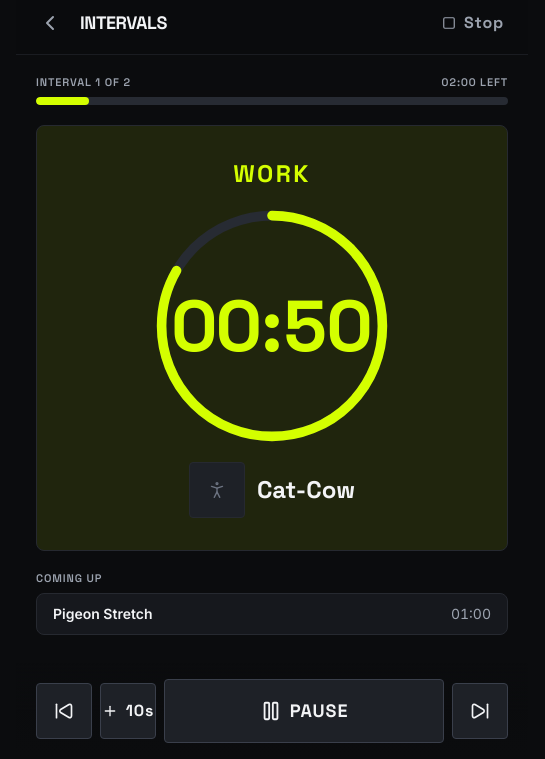
Test: interval Back button › undoes an accidental skip: the set is reopened and the step runs again
This screenshot has width=545, height=759.
Click the button named "Skip this set" at (480, 711), box [452,683,508,739]
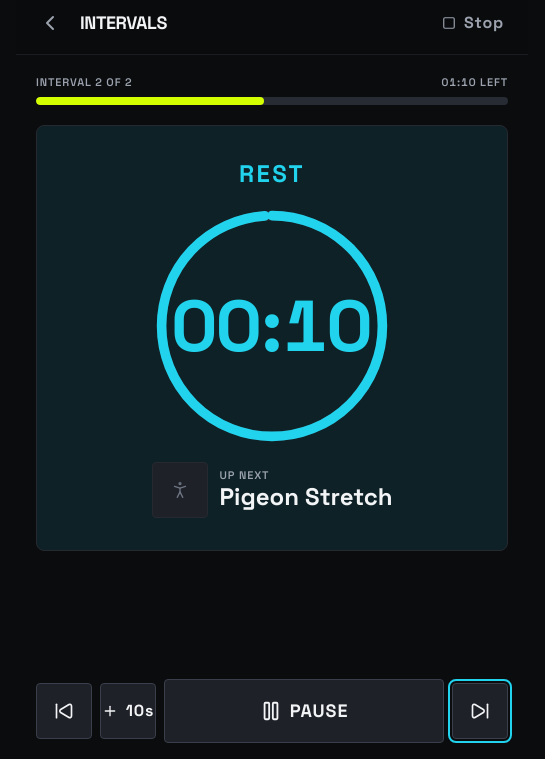
Expected: the text "Rest" is shown, [239,158,305,190]
Click the button named "back" at (64, 711), box [36,683,92,739]
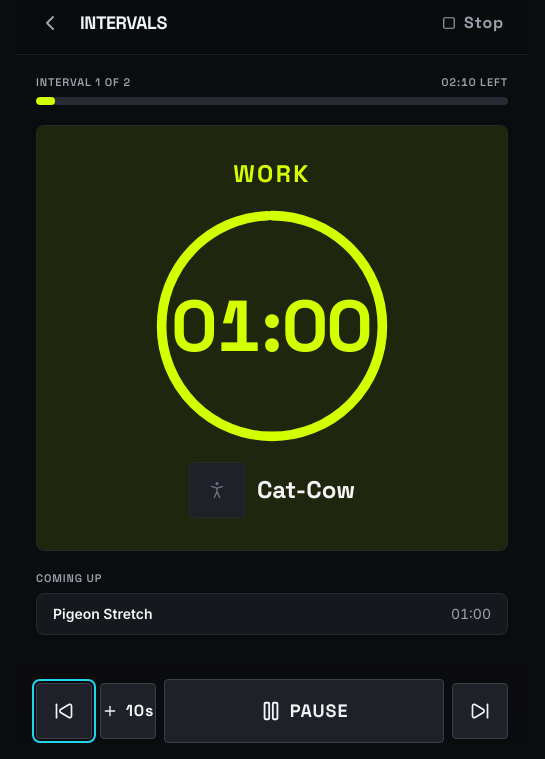
Expected: the text "Work" is shown, [233,158,311,190]
Expected: the text "01:00" below "Work" is shown, [172,280,372,372]
